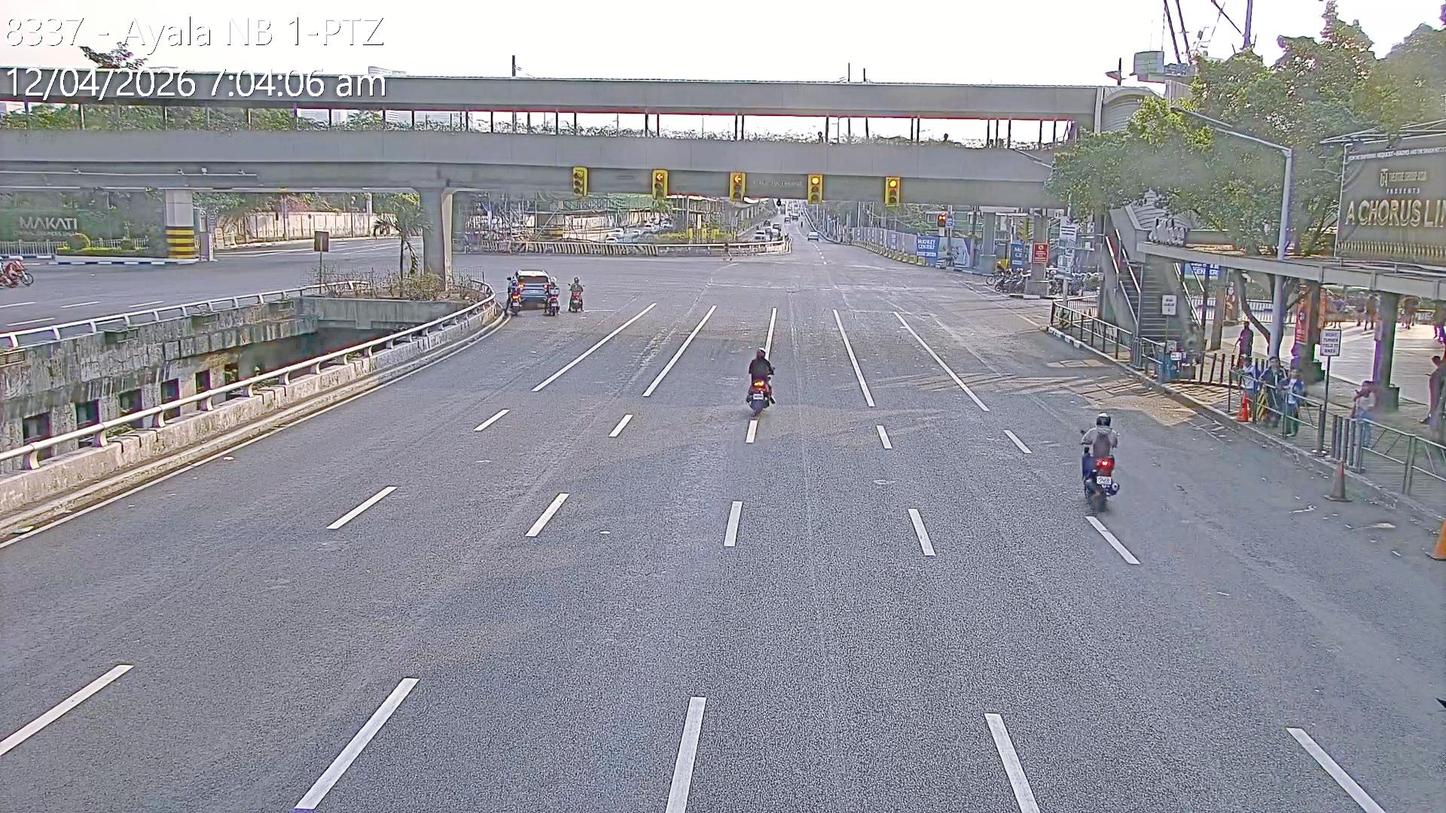Car: (508, 268, 558, 313)
Motor: (1078, 422, 1118, 510), (741, 349, 773, 410), (1000, 266, 1024, 294), (568, 279, 586, 313), (992, 267, 1014, 294), (543, 287, 560, 316), (503, 288, 519, 315)
Not Accident: (503, 266, 561, 316)
